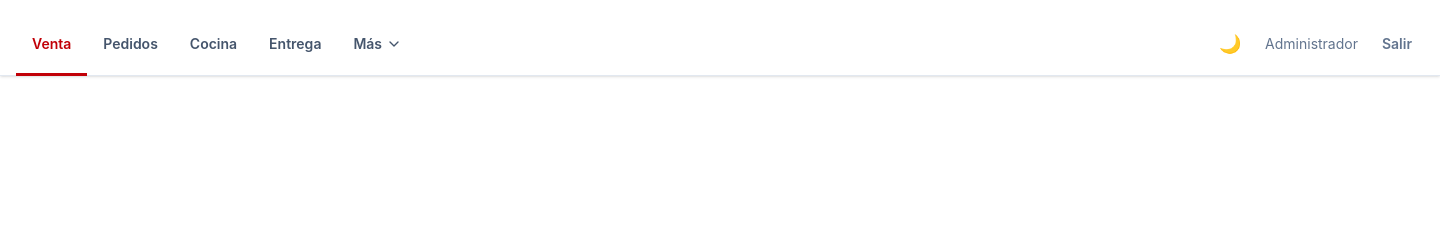
Test case: shows cash links plus Pedidos to cashiers, without admin links
The width and height of the screenshot is (1440, 243).
Click the button "Más": coordinates (378, 44) [337,12,418,76]
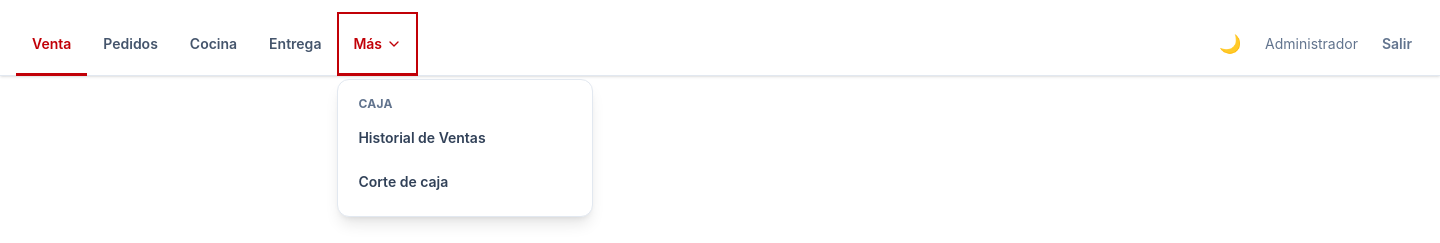
Expected: the link "Pedidos" is shown, [103,35,158,52]
Now the link "Historial de Ventas" is shown, box [358,129,486,146]
Now the link "Corte de caja" is shown, box [358,173,448,190]
